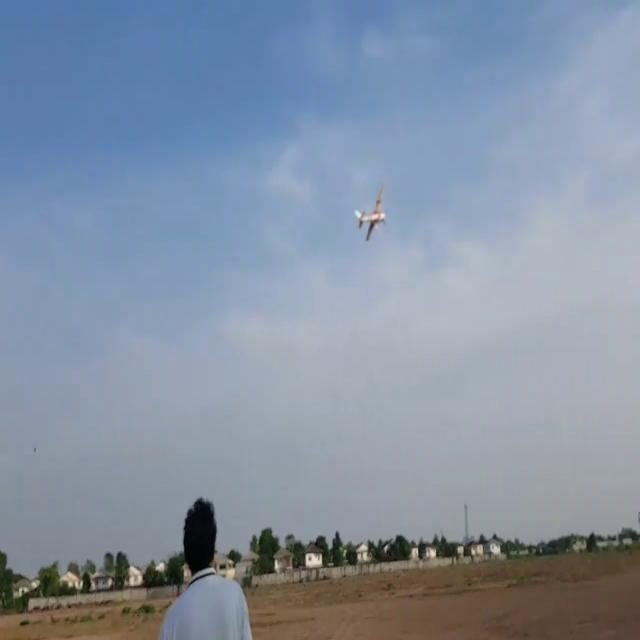iha: (353, 186, 389, 248)
